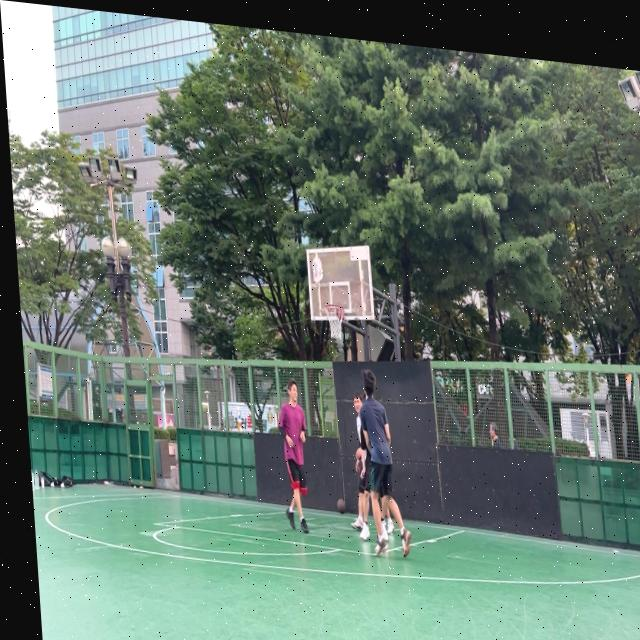basketball: (337, 497, 347, 515)
hoop: (324, 303, 346, 342)
